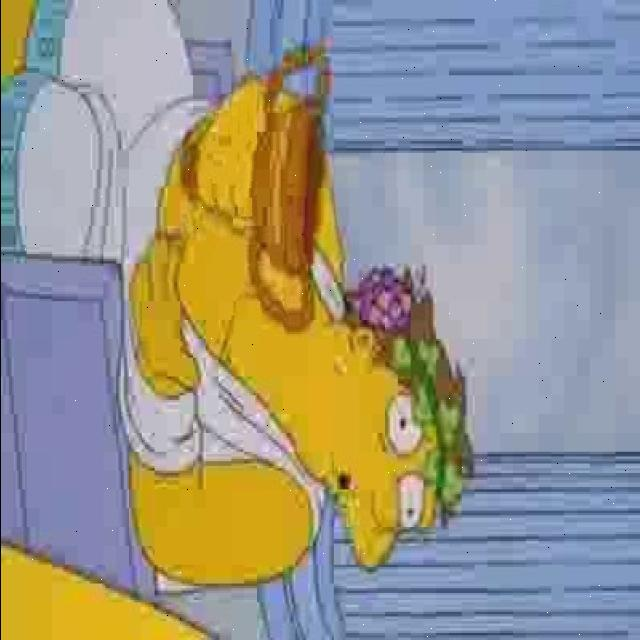Barney Gumble: (295, 270, 463, 576)
